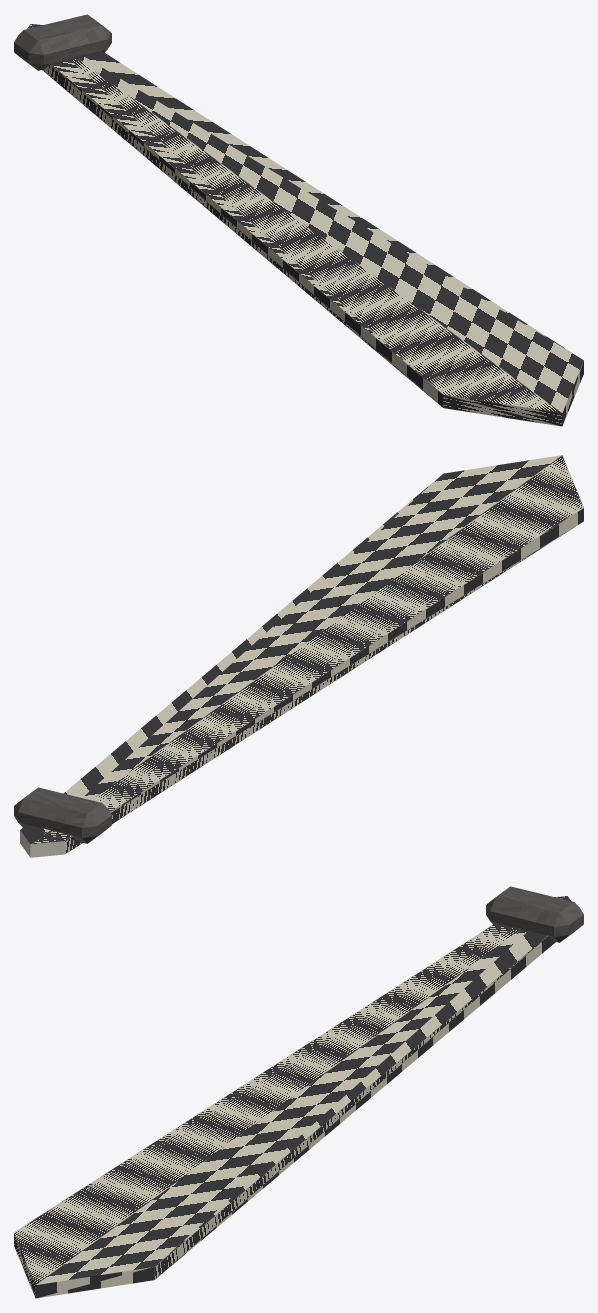
Rendered from tie_skinny.glb.
3 renders of one model, top to bottom at view 1: azimuth 30°, elevation 25°; view 2: azimuth 150°, elevation 25°; view 3: azimuth 330°, elevation 25°, orthographic.
Parts seen in each view (by area): view 1: block_silk panel -1, block_silk panel 1, block_knot; view 2: block_silk panel -1, block_silk panel 1, block_knot; view 3: block_silk panel 1, block_silk panel -1, block_knot.
Part boxes in pixels (x1=…): block_silk panel -1: x1=27, y1=24, x2=562, y2=426; block_silk panel 1: x1=31, y1=24, x2=583, y2=425; block_knot: x1=14, y1=14, x2=111, y2=70; block_silk panel -1: x1=30, y1=455, x2=583, y2=857; block_silk panel 1: x1=20, y1=455, x2=561, y2=856; block_knot: x1=14, y1=787, x2=111, y2=843; block_silk panel 1: x1=35, y1=896, x2=570, y2=1298; block_silk panel -1: x1=14, y1=896, x2=566, y2=1297; block_knot: x1=486, y1=886, x2=583, y2=942.
Size of the model in its own units: 0.044 by 0.01 by 0.2882.
Materials: 1 (1 with a texture image).
